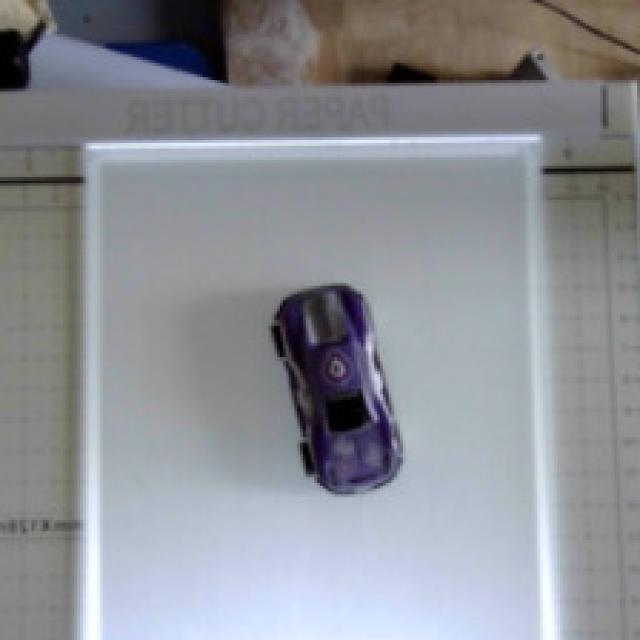Purple Car: (233, 252, 454, 559)
